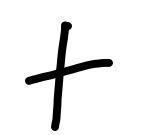plus: (25, 22, 112, 128)
